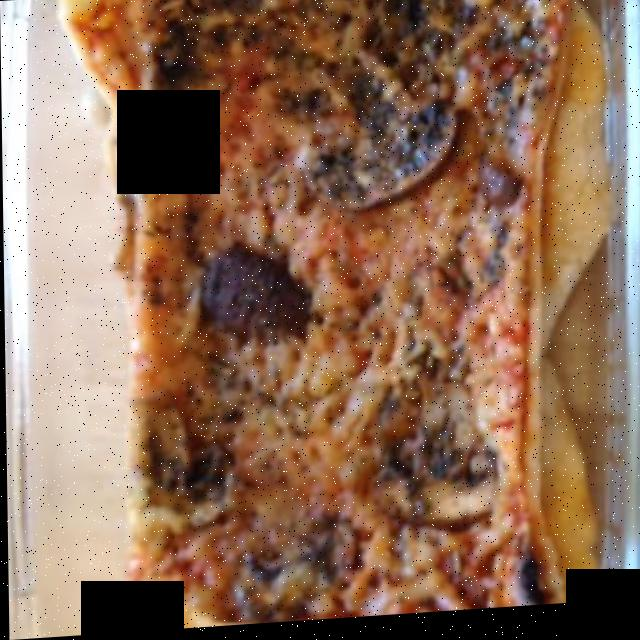pizza-margherita-baked: (72, 0, 611, 623)
